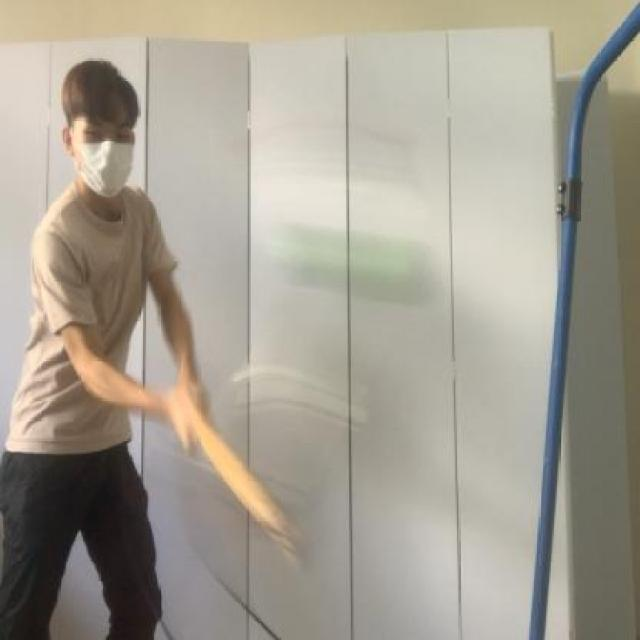baseball: (276, 215, 429, 320)
